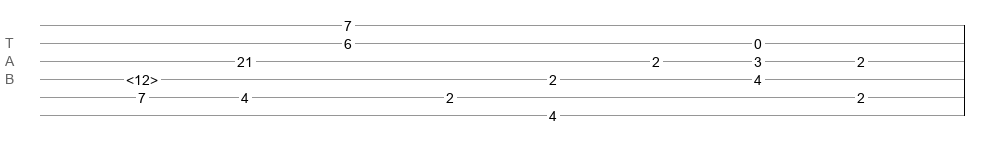0: (754, 36, 762, 46)
2: (446, 90, 454, 100), (549, 72, 557, 82), (652, 54, 660, 64), (857, 54, 865, 64), (857, 90, 865, 100)
21: (237, 54, 253, 64)
3: (754, 54, 762, 64)
4: (241, 90, 249, 100), (549, 108, 557, 118), (754, 72, 762, 82)
6: (344, 36, 352, 46)
7: (138, 90, 146, 100), (344, 18, 352, 28)
harmonic: (126, 72, 158, 82)
